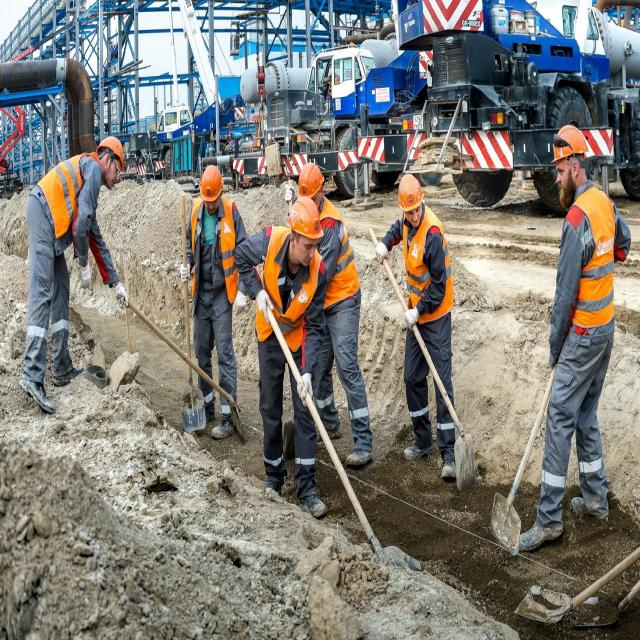Helmet: (289, 198, 323, 248), (551, 126, 590, 167), (99, 136, 127, 179), (398, 175, 426, 217), (201, 165, 226, 208), (298, 164, 326, 199)
Jacket: (566, 181, 617, 332), (259, 252, 317, 345), (406, 213, 451, 326), (45, 155, 102, 233), (191, 204, 237, 300), (324, 209, 359, 313)
